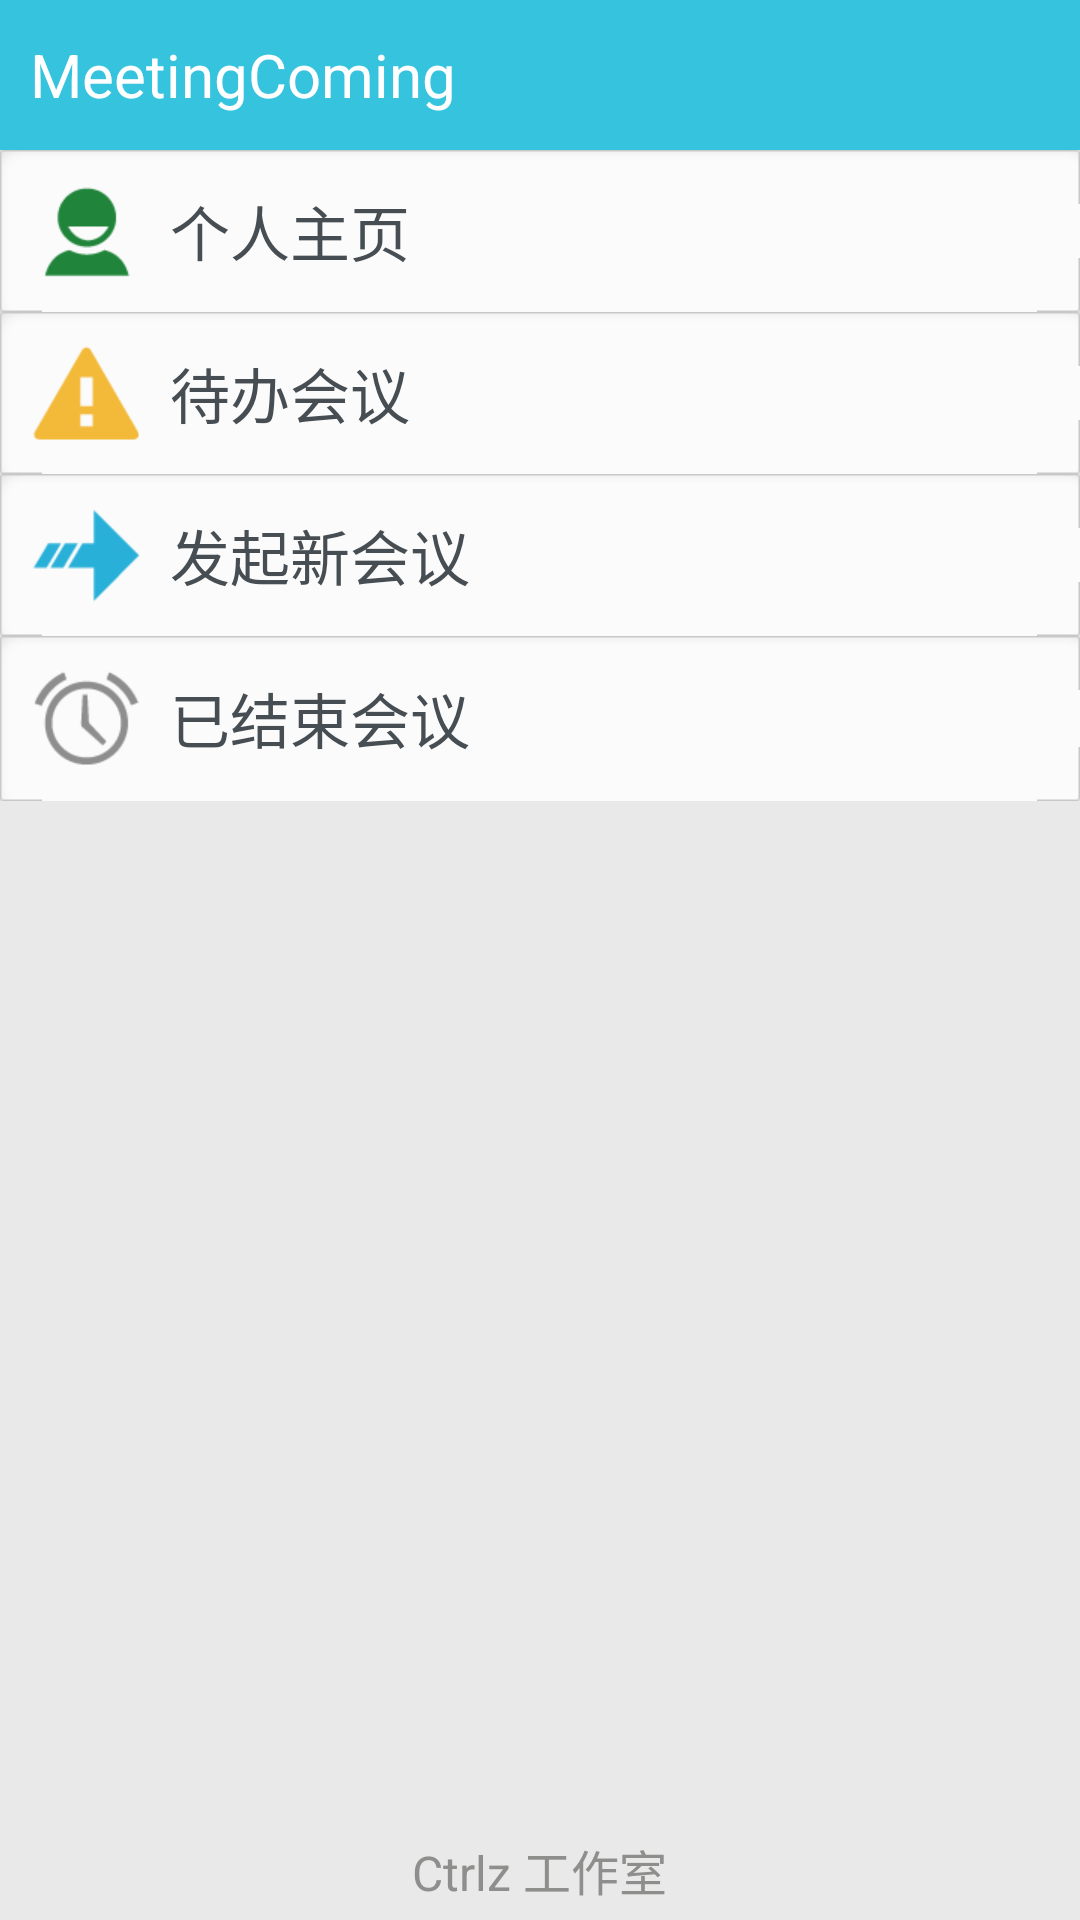

Where icons sit on this 1080 x 1920 app screen, as [left=x1, top=y1, right=x2, bottom=y2]:
slidingmenu pic: [left=45, top=187, right=130, bottom=277]
